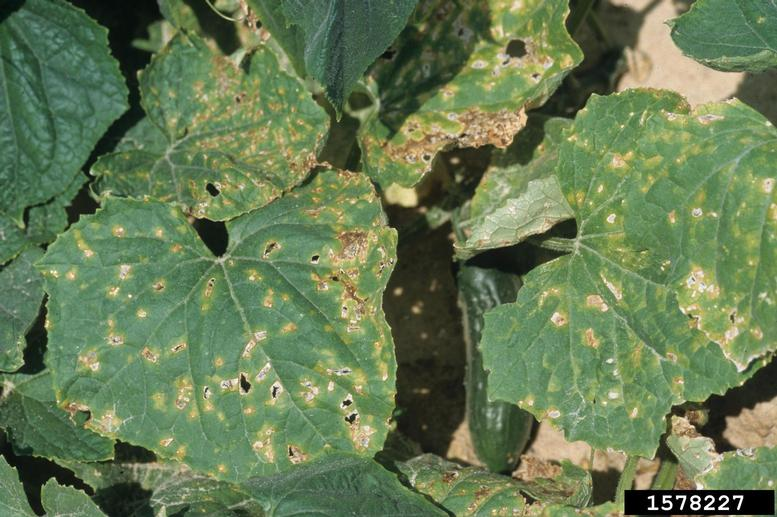Cucumber_AngularLeafSpot: (24, 189, 452, 468), (507, 102, 776, 462), (108, 53, 342, 204)
